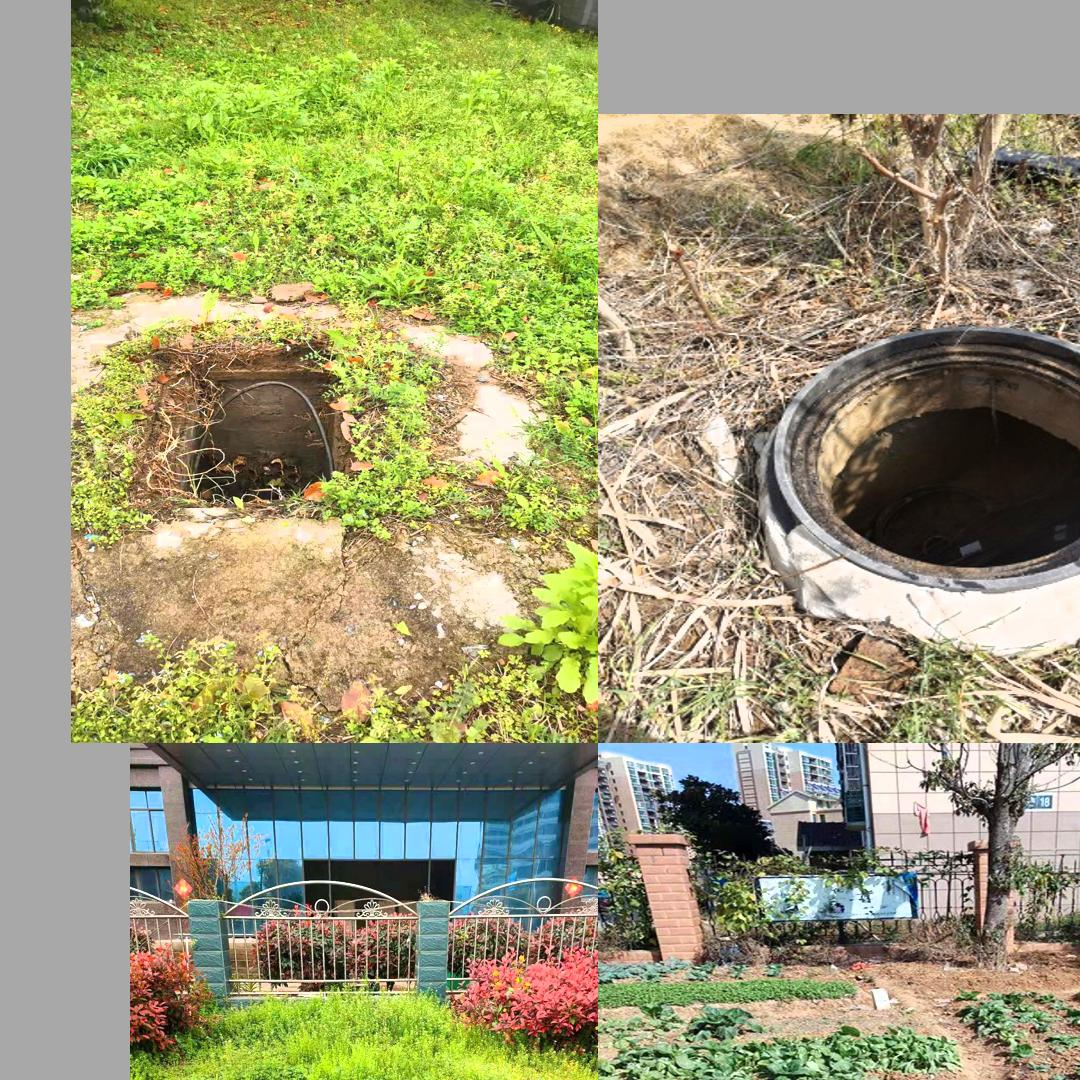lose: (772, 323, 1080, 592), (125, 355, 359, 513)
